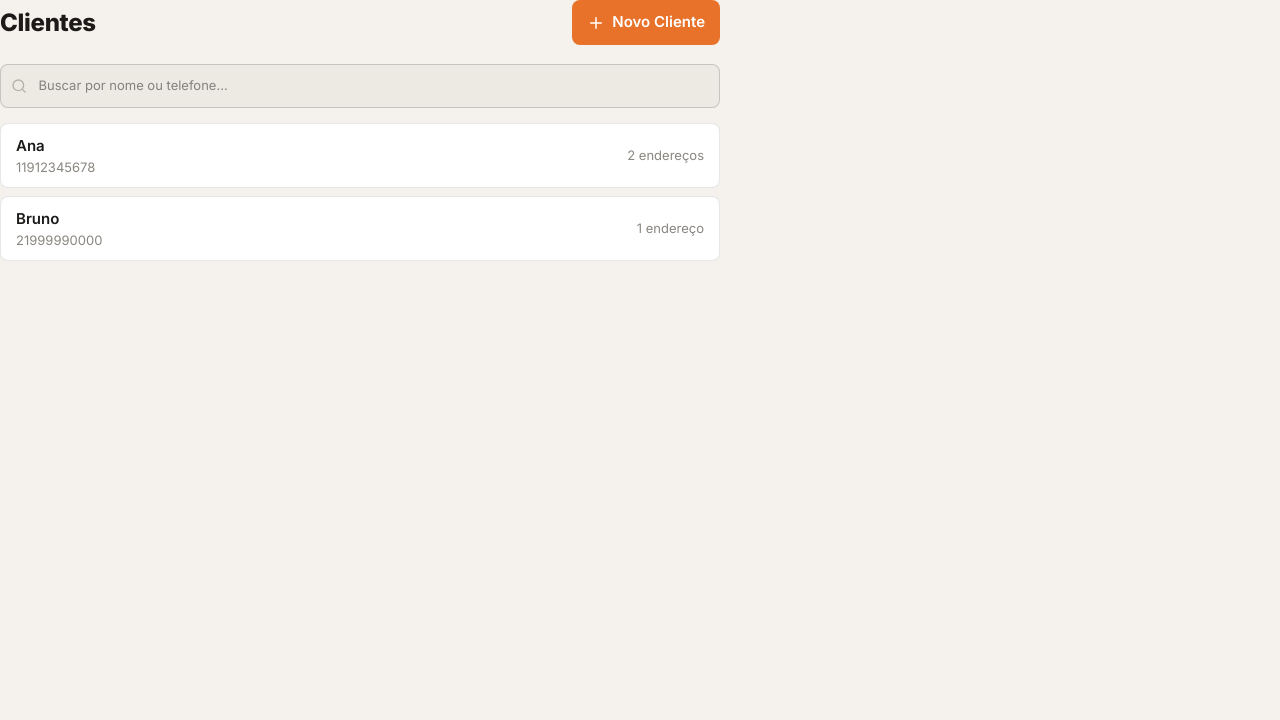
CustomersPage › closes the modal via the backdrop
Expected: the text "Ana" is shown, left=16, top=136, right=45, bottom=155
Click the button "Novo Cliente": [646, 22] box left=572, top=0, right=720, bottom=45
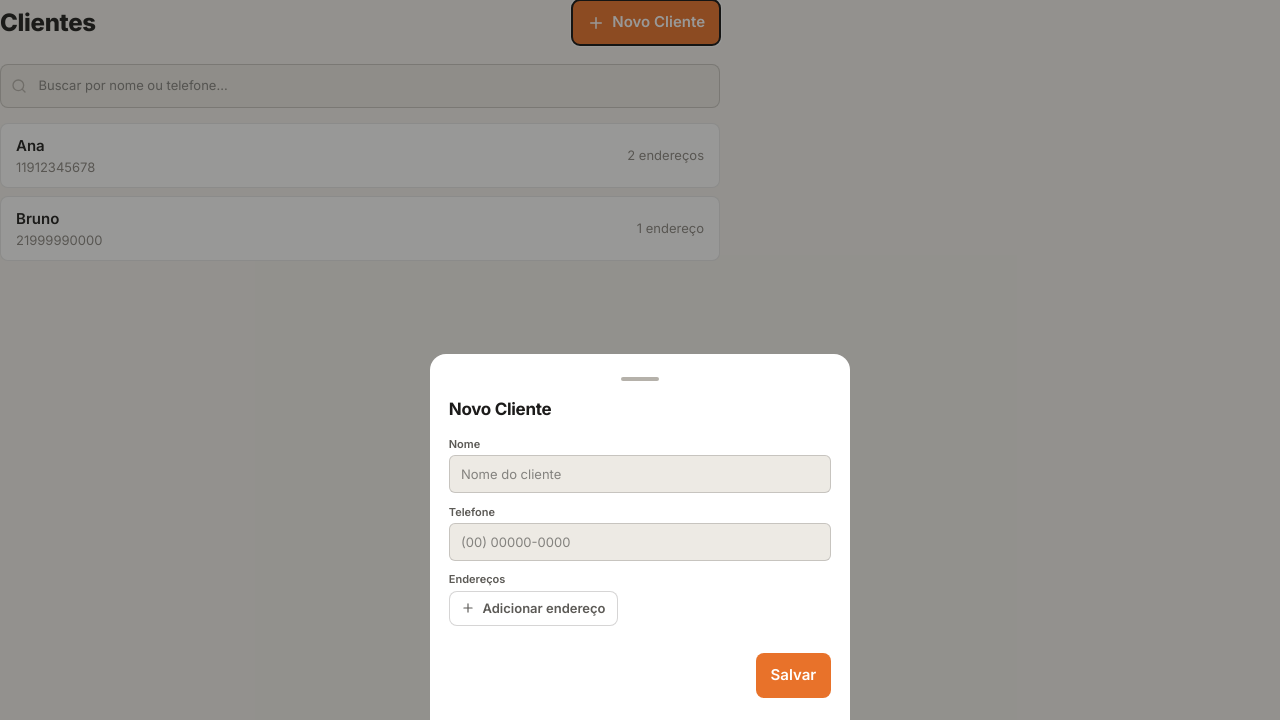
Now the dialog is shown, box left=430, top=354, right=850, bottom=719
Click the element that starts with "Novo Cliente": [77, 360] box left=0, top=0, right=1279, bottom=719
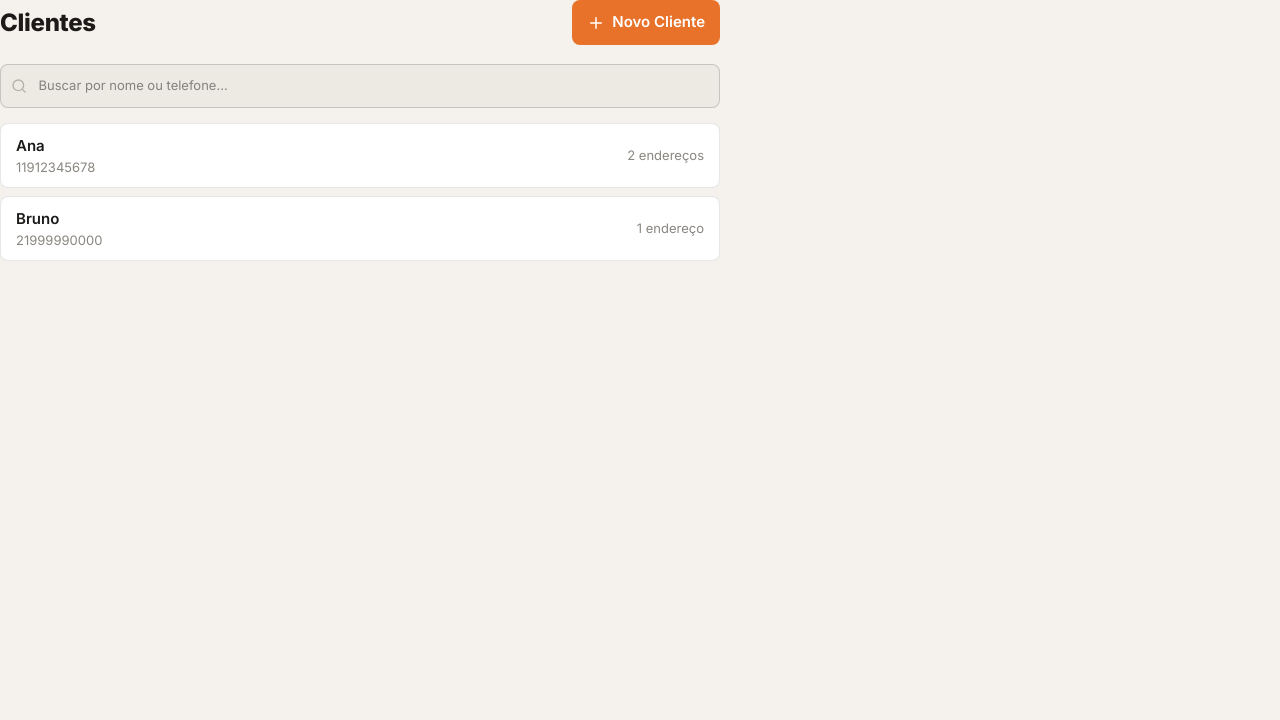
Now the dialog is gone
